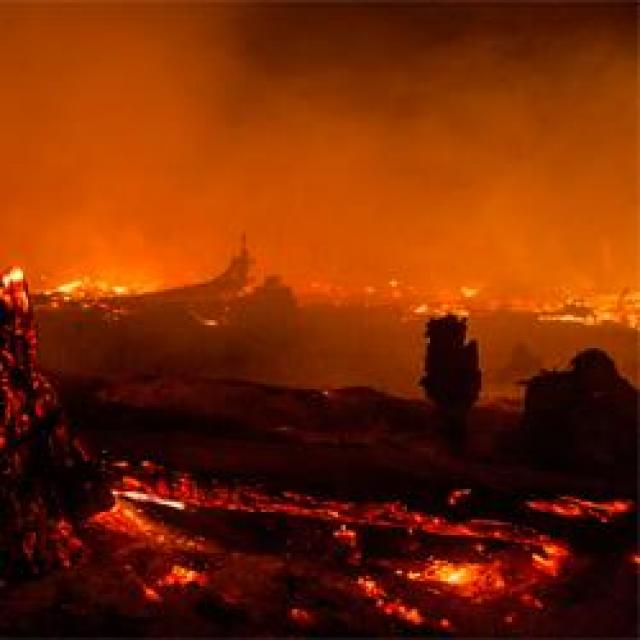fire: (375, 268, 640, 334), (3, 264, 169, 308), (531, 485, 633, 524), (91, 493, 162, 548), (138, 561, 202, 606), (432, 559, 477, 594)
